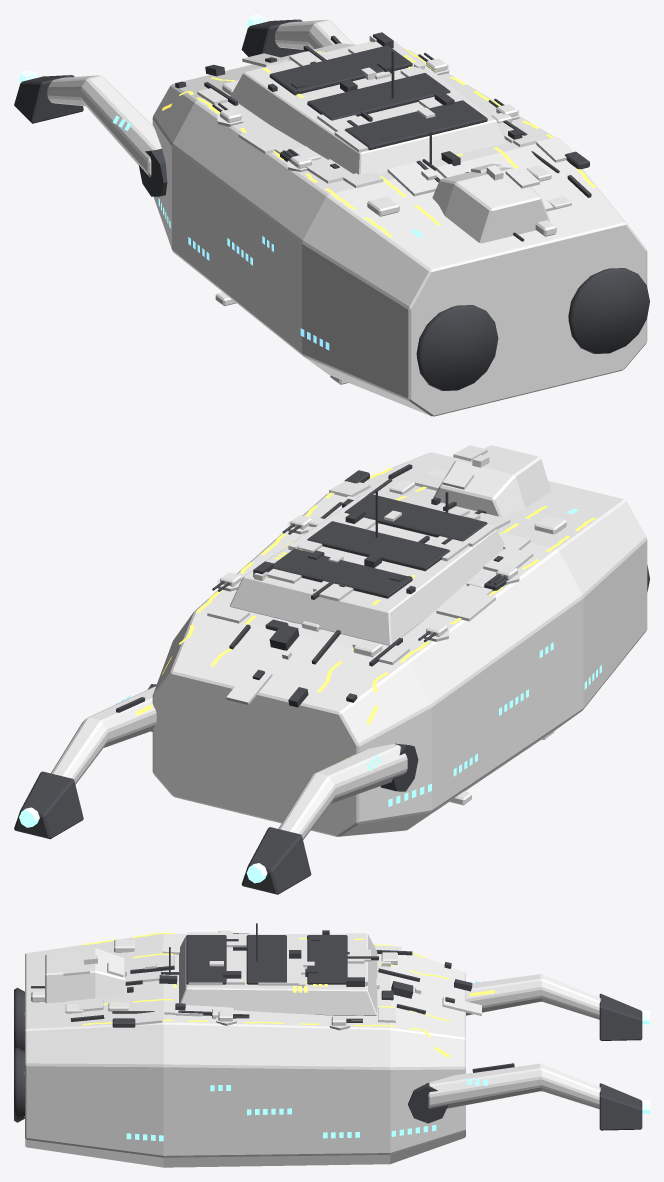
File: leviafan.glb
3 views of the same model, one above another, from view 1: azimuth 30°, elevation 25°; view 2: azimuth 150°, elevation 25°; view 3: azimuth 270°, elevation 25° (orthographic). The views are drawn at different scales.
Parts seen in each view (by area): view 1: Корпус, Бункер, Накладные_плиты, Мостик, Кожух_дюзы, Кожух_дюзы.001, Стрела.001, Люк.002, Люк.001, Люк, Механика, Ковш.001 (+5 smaller); view 2: Корпус, Бункер, Накладные_плиты, Мостик, Стрела.001, Стрела, Механика, Люк.001, Люк, Люк.002, Ковш, Ковш.001 (+3 smaller); view 3: Корпус, Бункер, Накладные_плиты, Стрела, Стрела.001, Мостик, Механика, Люк.001, Люк, Люк.002, Ковш.001, Ковш (+5 smaller).
Boxes of the visible parts, x1=… form: Корпус: x1=152, y1=43, x2=647, y2=416; Бункер: x1=230, y1=37, x2=506, y2=174; Накладные_плиты: x1=197, y1=35, x2=573, y2=211; Мостик: x1=432, y1=167, x2=549, y2=243; Кожух_дюзы: x1=568, y1=268, x2=649, y2=353; Кожух_дюзы.001: x1=416, y1=305, x2=498, y2=390; Стрела.001: x1=47, y1=75, x2=161, y2=177; Люк.002: x1=344, y1=100, x2=487, y2=150; Люк.001: x1=307, y1=73, x2=450, y2=120; Люк: x1=269, y1=45, x2=412, y2=95; Механика: x1=175, y1=32, x2=591, y2=197; Ковш.001: x1=14, y1=75, x2=83, y2=123; Корпус: x1=152, y1=452, x2=647, y2=836; Бункер: x1=230, y1=496, x2=504, y2=645; Накладные_плиты: x1=207, y1=445, x2=533, y2=704; Мостик: x1=433, y1=445, x2=551, y2=516; Стрела.001: x1=278, y1=744, x2=407, y2=839; Стрела: x1=51, y1=686, x2=156, y2=784; Механика: x1=116, y1=464, x2=503, y2=712; Люк.001: x1=307, y1=521, x2=449, y2=571; Люк: x1=273, y1=548, x2=412, y2=598; Люк.002: x1=344, y1=493, x2=487, y2=541; Ковш: x1=14, y1=771, x2=83, y2=839; Ковш.001: x1=241, y1=827, x2=311, y2=894; Корпус: x1=25, y1=933, x2=465, y2=1167; Бункер: x1=179, y1=933, x2=377, y2=1015; Накладные_плиты: x1=63, y1=932, x2=481, y2=1025; Стрела: x1=428, y1=1063, x2=600, y2=1109; Стрела.001: x1=466, y1=974, x2=600, y2=1019; Мостик: x1=45, y1=948, x2=125, y2=1003; Механика: x1=70, y1=923, x2=514, y2=1072; Люк.001: x1=246, y1=935, x2=286, y2=984; Люк: x1=307, y1=935, x2=347, y2=984; Люк.002: x1=186, y1=935, x2=226, y2=984; Ковш.001: x1=599, y1=994, x2=642, y2=1040; Ковш: x1=599, y1=1083, x2=642, y2=1130.
Bounding box in the file's own units: 1.05 × 0.9181 × 2.52.
